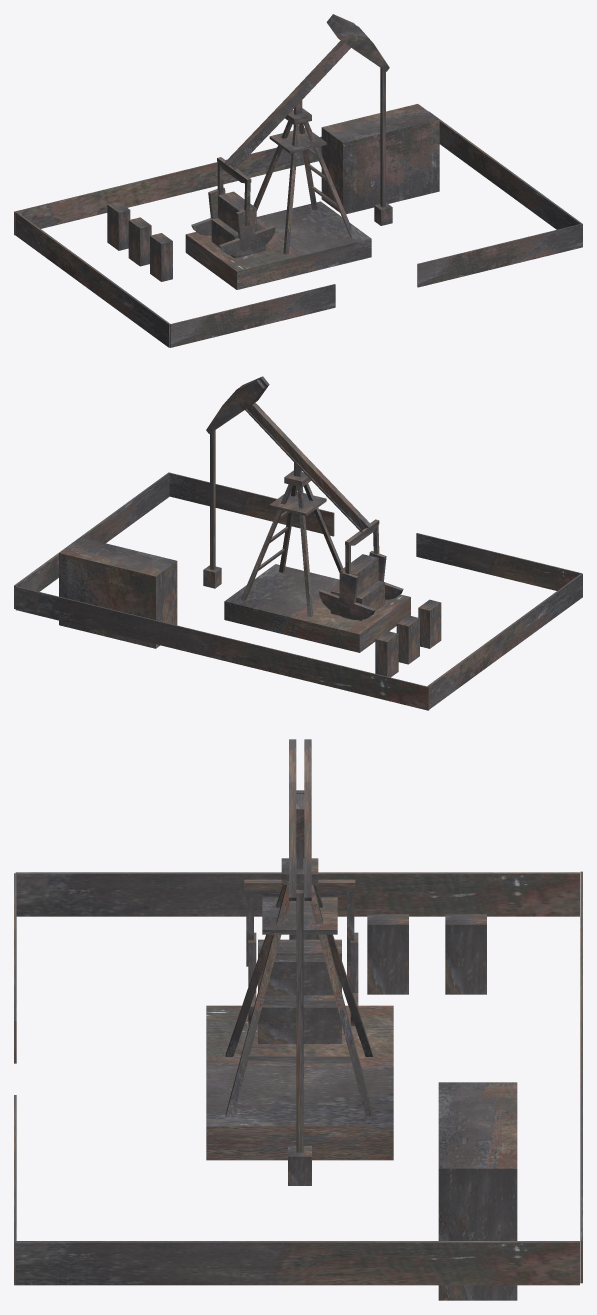
File: Rig_model.fbx
The picture shows the model from 3 angles, top to bottom: view 1: azimuth 30°, elevation 25°; view 2: azimuth 150°, elevation 25°; view 3: azimuth 270°, elevation 25°; orthographic projection. The views are drawn at different scales.
Parts seen in each view (by area): view 1: pCube40, pCube16, pCube34, pCube35, pCube36, pCube33, pCube32, pCube6, pCylinder2, pCube10, pCube39, pCube38 (+9 smaller); view 2: pCube34, pCube16, pCube40, pCube33, pCube35, pCube36, pCube32, pCube6, pCylinder3, pCube9, pCube37, pCube38 (+9 smaller); view 3: pCube32, pCube16, pCube33, pCube40, pCube37, pCube38, pCube18, pCube22, pCube14, pCube21, pCube1, pCube4 (+8 smaller).
Part boxes in pixels (x1,y1,x2,y2): pCube40: (321, 104, 439, 214); pCube16: (185, 201, 371, 289); pCube34: (14, 136, 321, 235); pCube35: (170, 284, 335, 347); pCube36: (417, 224, 582, 287); pCube33: (15, 212, 170, 347); pCube32: (429, 111, 582, 229); pCube6: (224, 40, 350, 169); pCylinder2: (219, 207, 275, 255); pCube10: (330, 17, 389, 71); pCube39: (150, 233, 172, 281); pCube38: (128, 217, 151, 266); pCube34: (15, 586, 429, 710); pCube16: (224, 564, 410, 652); pCube40: (59, 537, 177, 648); pCube33: (427, 573, 582, 709); pCube35: (416, 533, 581, 590); pCube36: (168, 472, 334, 536); pCube32: (14, 473, 169, 608); pCube6: (245, 402, 371, 532); pCylinder3: (319, 571, 375, 620); pCube9: (206, 379, 265, 433); pCube37: (375, 631, 398, 677); pCube38: (396, 615, 419, 664); pCube32: (15, 1241, 579, 1285); pCube16: (206, 1005, 393, 1160); pCube33: (15, 872, 579, 916); pCube40: (438, 1082, 517, 1300); pCube37: (445, 914, 486, 994); pCube38: (367, 914, 408, 994); pCube18: (258, 995, 341, 1043); pCube22: (258, 939, 341, 995); pCube14: (262, 897, 337, 934); pCube21: (296, 890, 303, 1152); pCube1: (225, 885, 290, 1116); pCube4: (310, 885, 373, 1116).
Size of the model in its own units: 432 by 236 by 280.
